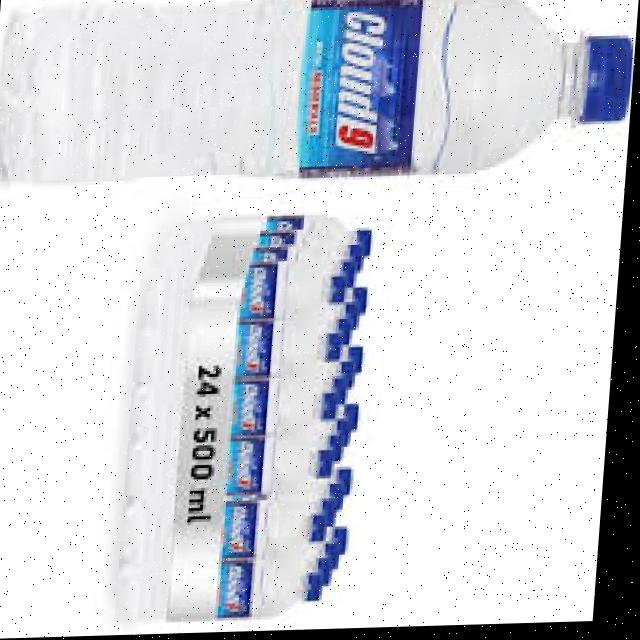bottle: (0, 0, 640, 219)
